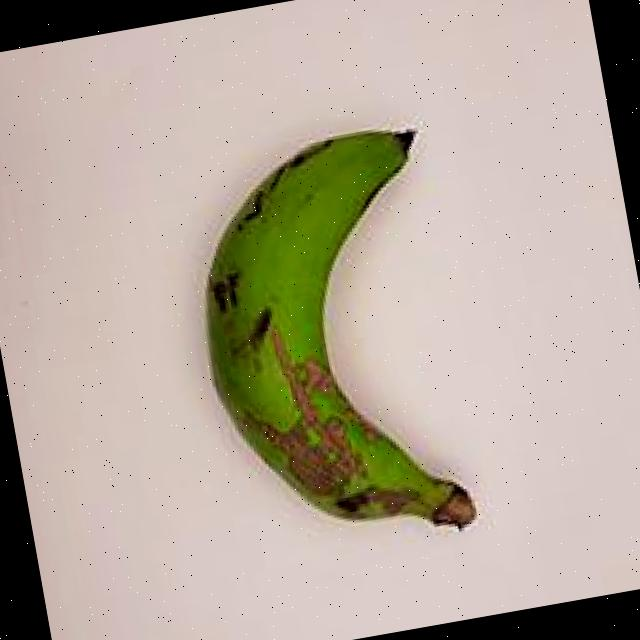Raw: (142, 68, 524, 599)
